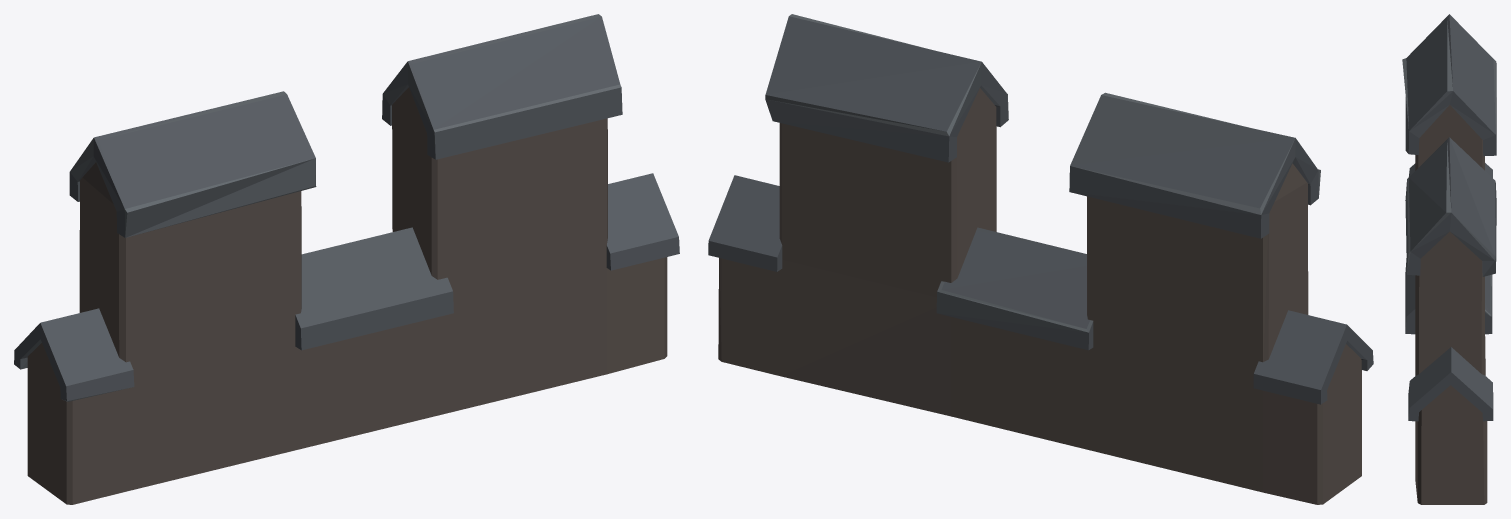
File: MCastle_LargeTurrets_08.FBX
The picture shows the model from 3 angles, left to right: view 1: azimuth 30°, elevation 25°; view 2: azimuth 150°, elevation 25°; view 3: azimuth 270°, elevation 25°; orthographic projection. The views are drawn at different scales.
Parts seen in each view (by area): view 1: MCastle_LargeTurrets_08_LOD0; view 2: MCastle_LargeTurrets_08_LOD0; view 3: MCastle_LargeTurrets_08_LOD0.
Part boxes in pixels (<box>): MCastle_LargeTurrets_08_LOD0: <box>14,14,679,504</box>; MCastle_LargeTurrets_08_LOD0: <box>708,14,1373,504</box>; MCastle_LargeTurrets_08_LOD0: <box>1402,14,1496,504</box>.
Size of what is drawn, in the model's own units: 4.07 by 2.17 by 0.678.
